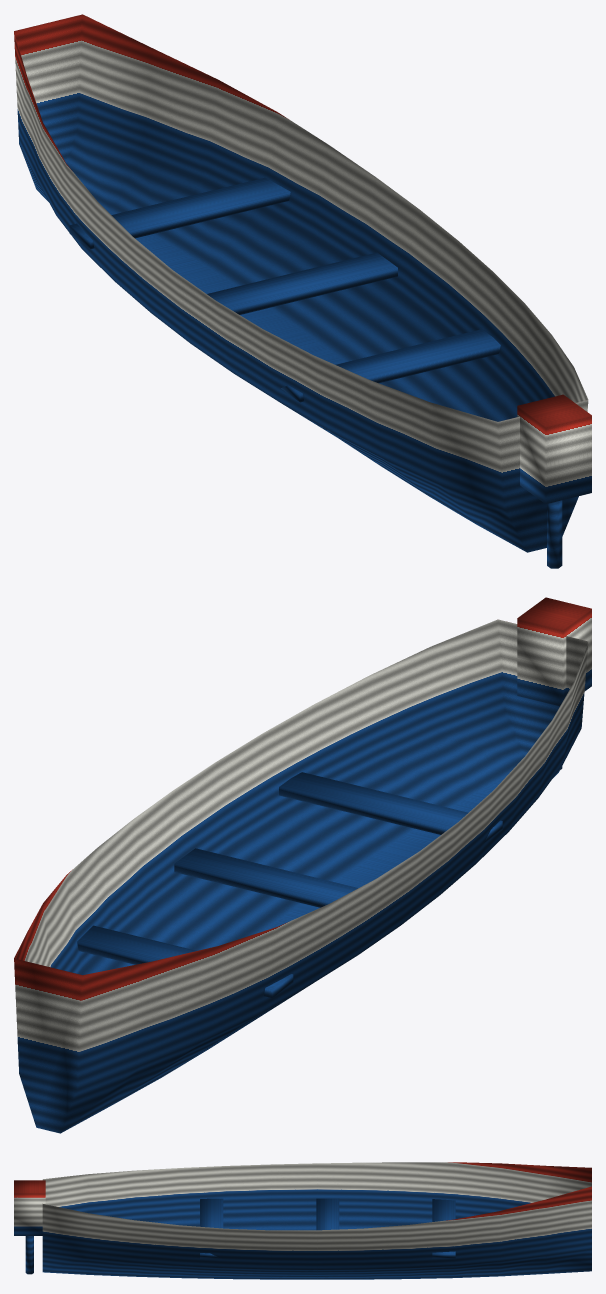
The model's file is lancha.obj.
3 views of the same model, one above another, from view 1: azimuth 30°, elevation 25°; view 2: azimuth 150°, elevation 25°; view 3: azimuth 270°, elevation 25° (orthographic). The views are drawn at different scales.
Visible parts, largest first — view 1: lancha; view 2: lancha; view 3: lancha.
Part boxes in pixels (bbox=[...]): lancha: bbox=[14, 14, 591, 568]; lancha: bbox=[14, 597, 591, 1133]; lancha: bbox=[14, 1162, 591, 1279].
Bounding box in the file's own units: 1.5 × 1 × 5.47.
Materials: 1 (1 with a texture image).
